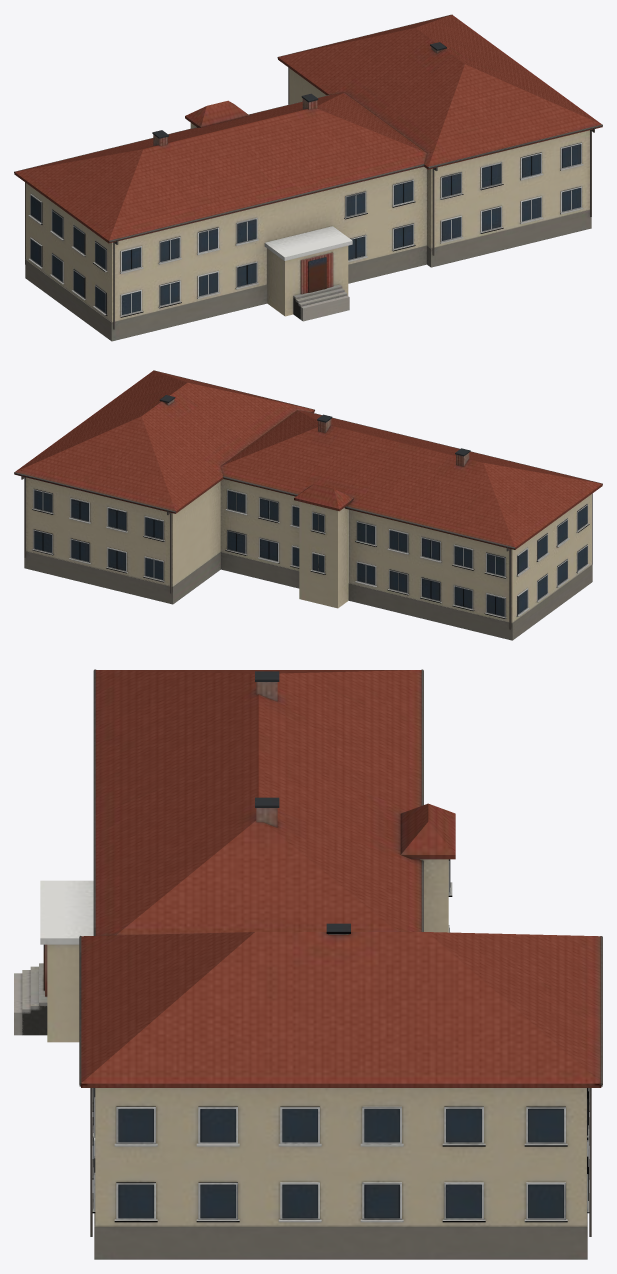
The model's file is szkola.glb.
The picture shows the model from 3 angles, top to bottom: view 1: azimuth 30°, elevation 25°; view 2: azimuth 150°, elevation 25°; view 3: azimuth 270°, elevation 25°; orthographic projection. The views are drawn at different scales.
Parts seen in each view (by area): view 1: szkola; view 2: szkola; view 3: szkola.
Boxes of the visible parts, bbox=[...] form: szkola: bbox=[14, 14, 602, 341]; szkola: bbox=[14, 370, 602, 640]; szkola: bbox=[14, 669, 602, 1259].
Size of the model in its own units: 41 by 12.1 by 24.67.
1 material, 1 textured.
